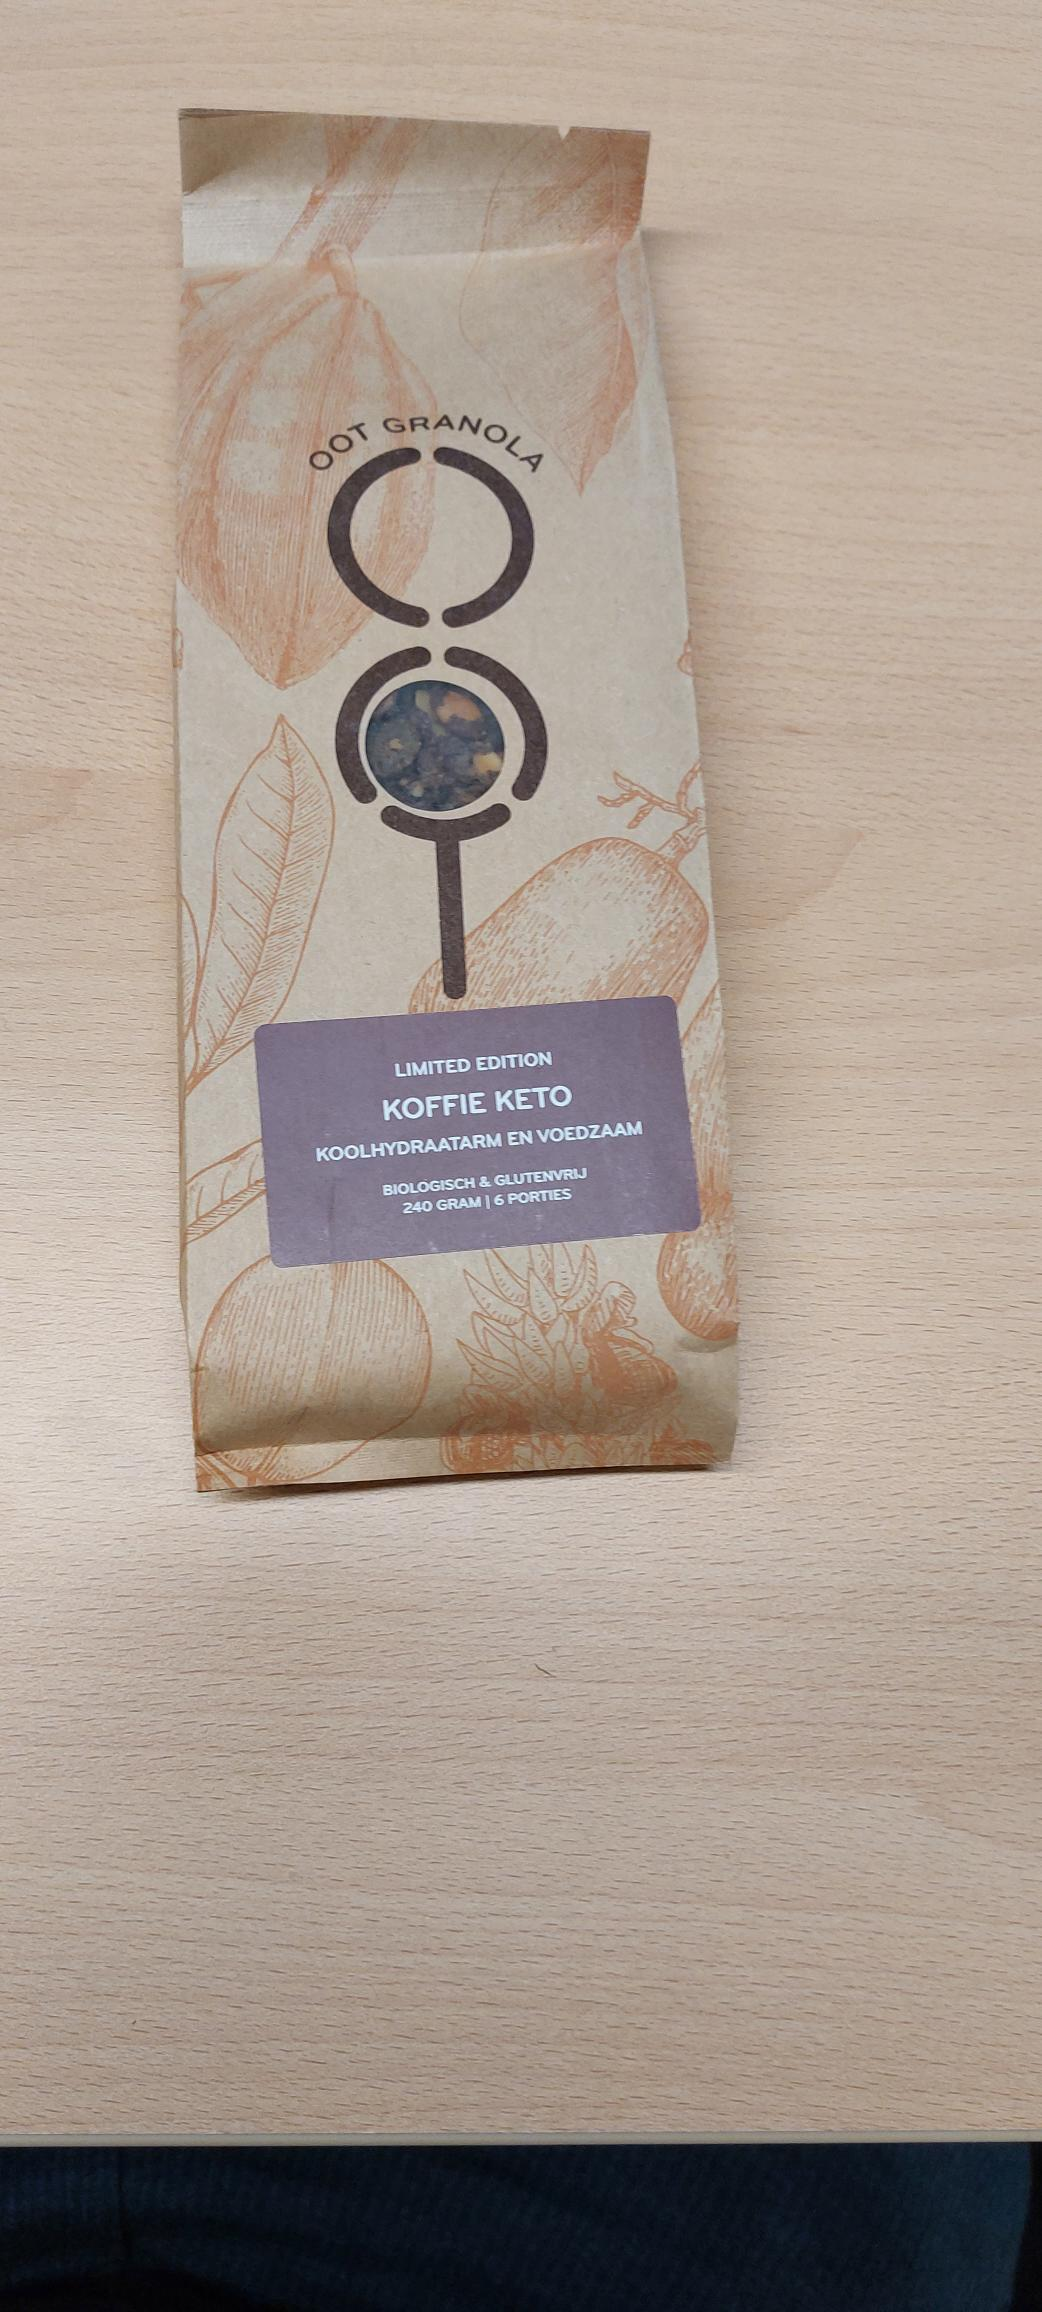KoffieKeto: (248, 1009, 688, 1275)
